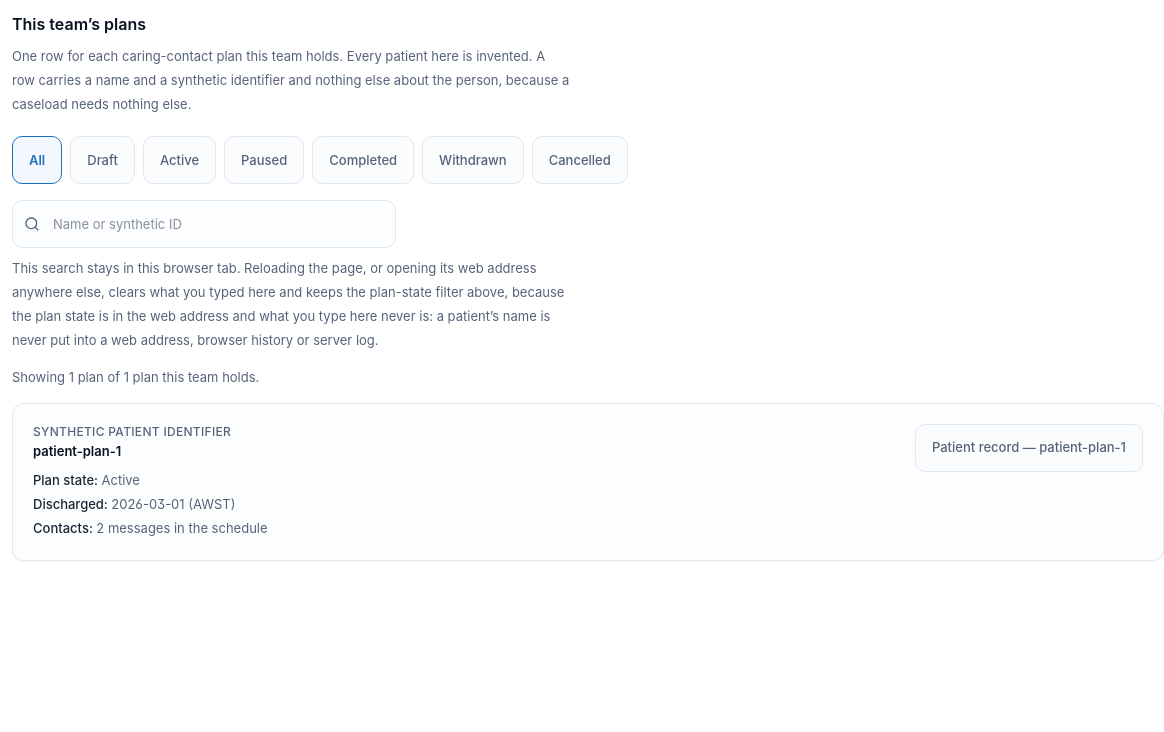
Test: Patients directory - the names-only projection (Ruling 91) › finds no row by a name it does not hold, when the names read released nothing
This screenshot has width=1164, height=732.
Expected: the number of list items is 1, [12,403,1163,561]
Type "Jordan" into the search field at point(204, 224), box [12,200,396,248]
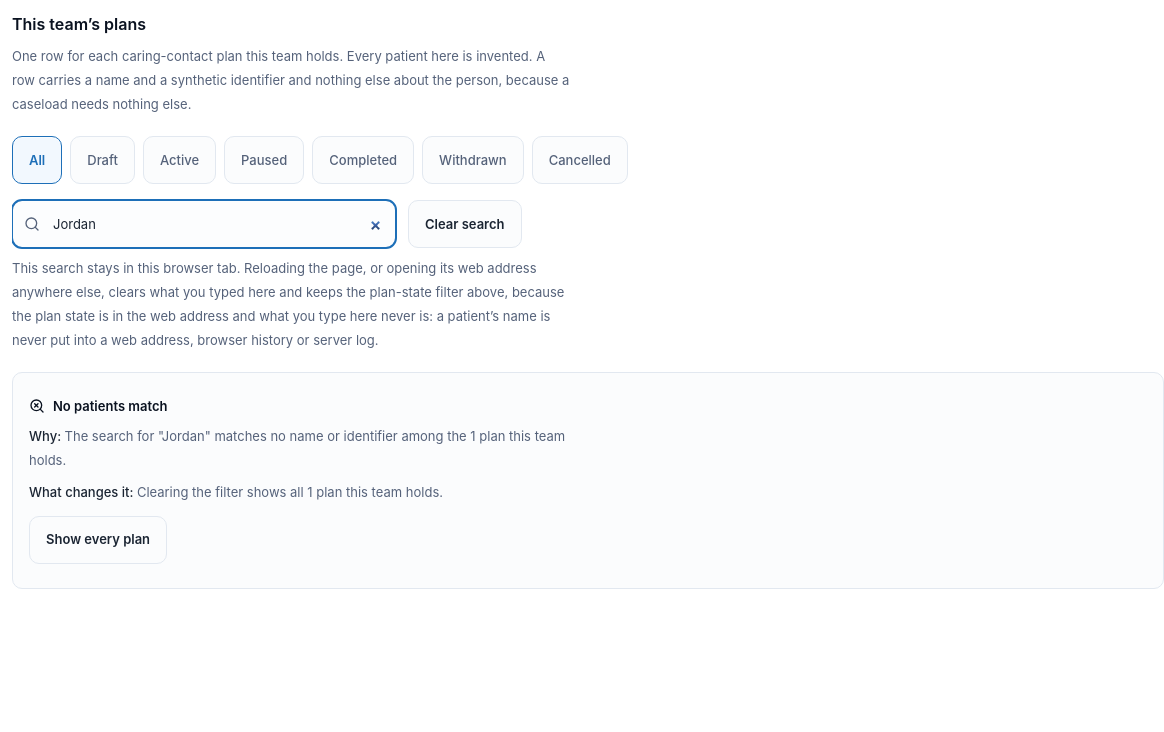
Expected: no list items are shown
Expected: the element "No patients match" is shown, [12,372,1163,589]
